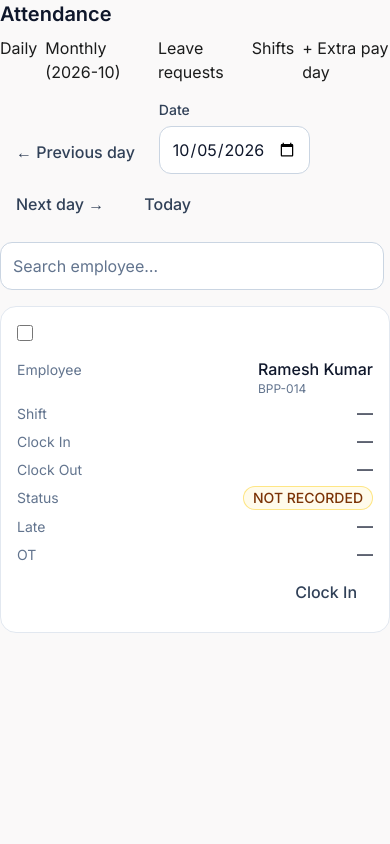
Test case: AttendanceScreen — past day, person with no record › R2-244: Clock In on an unrecorded row for a past date opens the punch dialog asking for the time
Click the button "Clock In": coordinates (326, 592) [279,570,373,614]
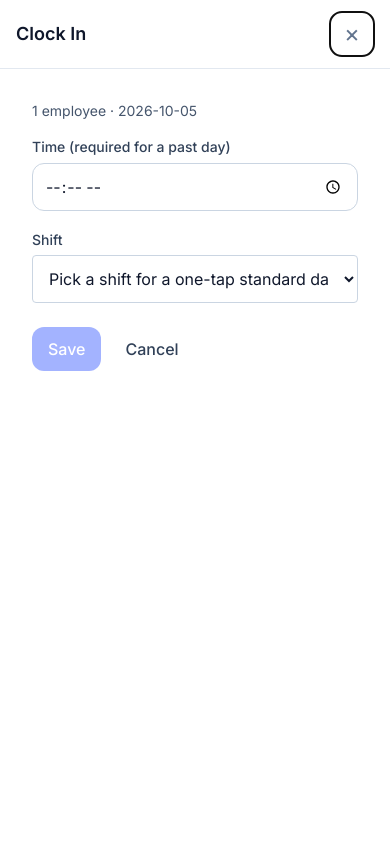
Check: the time field labelled "Time (required for a past day)" is shown, box [32,163,358,211]
